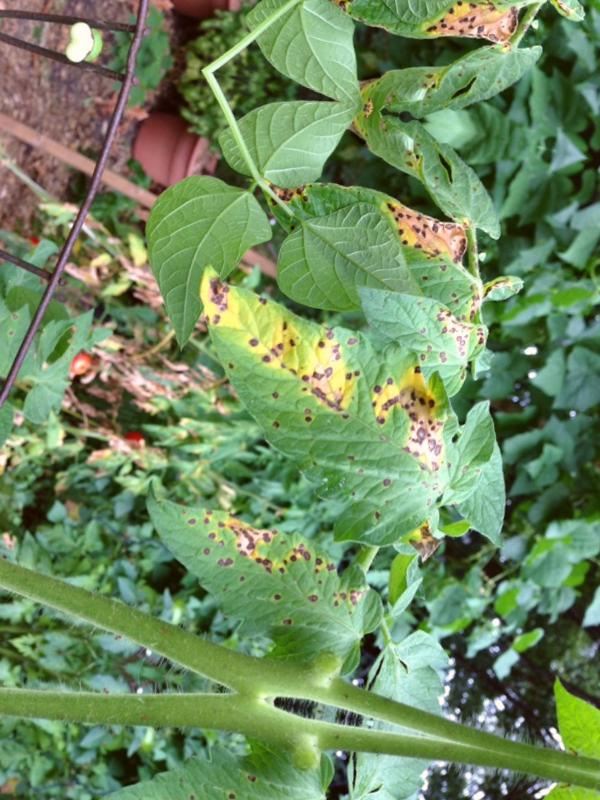Tomato Septoria leaf spot: (159, 265, 478, 527), (130, 484, 401, 663), (333, 284, 486, 374)
Tomato leaf: (208, 77, 365, 203)
